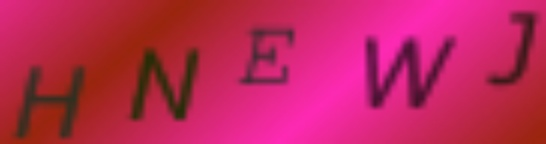E: (236, 24, 299, 87)
H: (12, 61, 90, 143)
J: (482, 8, 542, 89)
N: (125, 41, 209, 124)
W: (357, 32, 460, 110)
